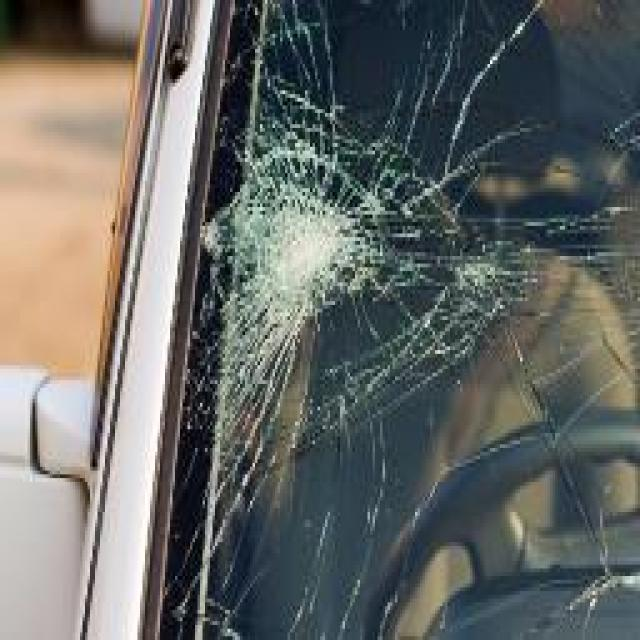Windshield: (198, 0, 615, 640)
